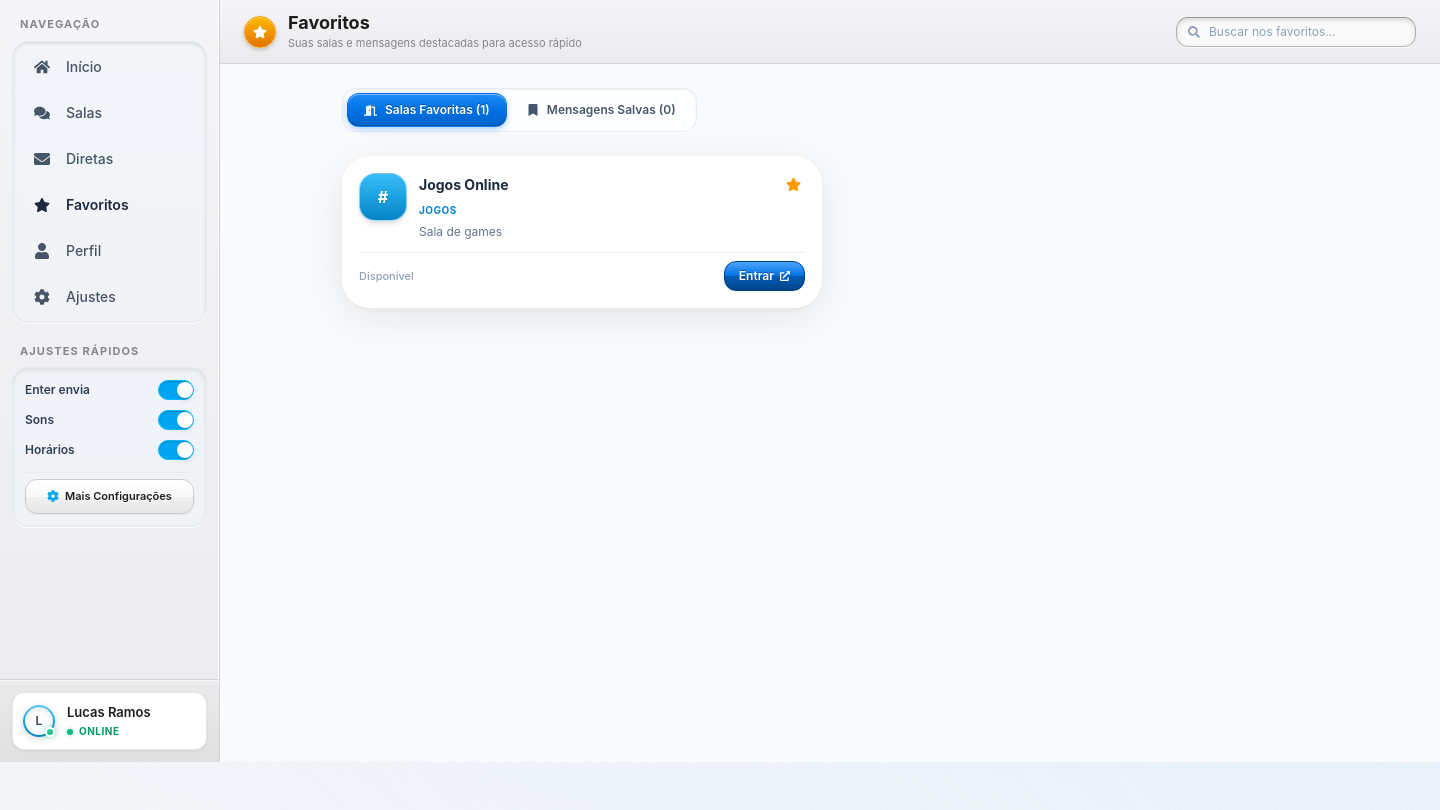
Test case: Favorites Page Tests › permite desfavoritar uma sala da lista
Expected: the heading "Jogos Online" is shown, [419,174,508,194]
Click the button named "Remover sala dos favoritos": (794, 184) [782,173,805,196]
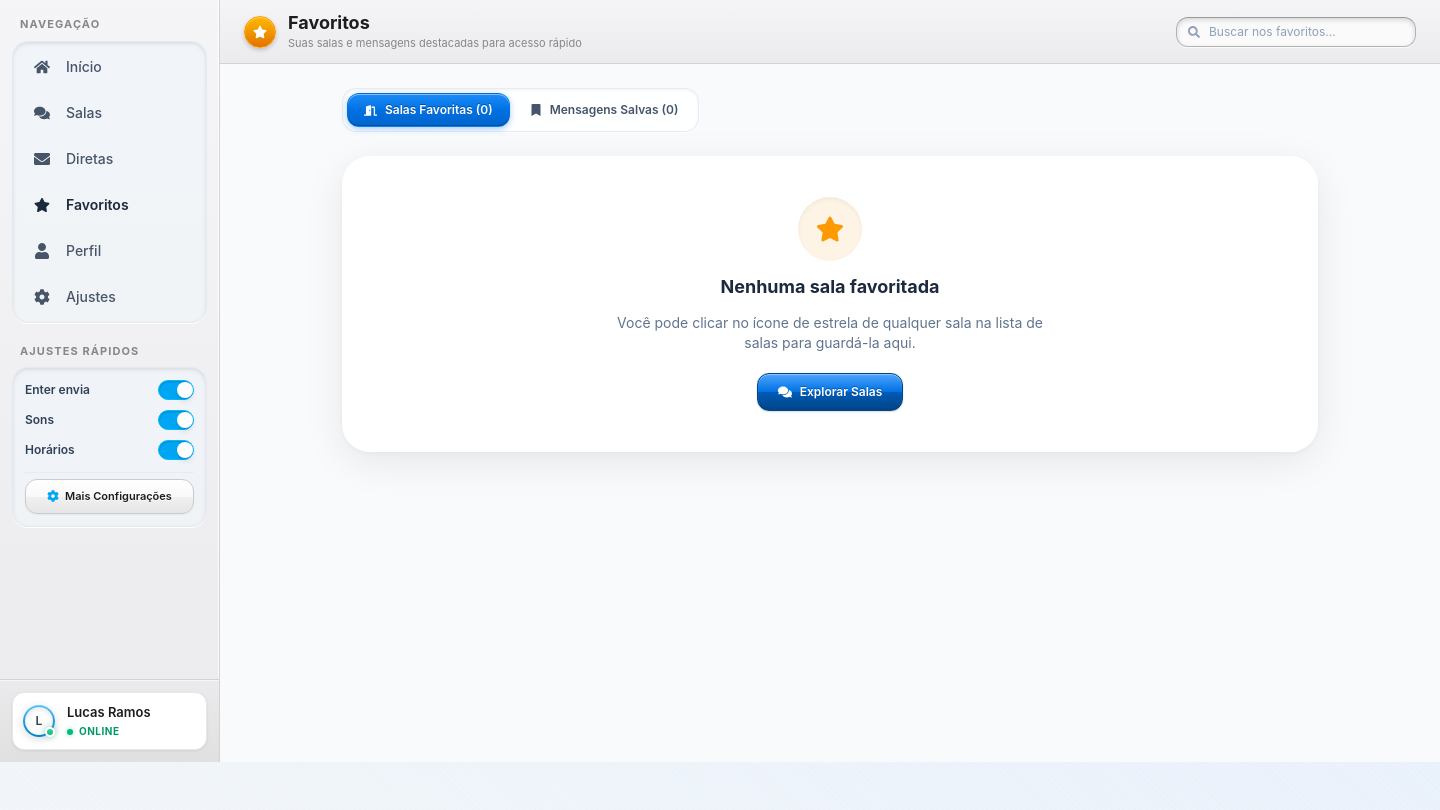
Expected: the heading "Nenhuma sala favoritada" is shown, [720,273,940,301]
